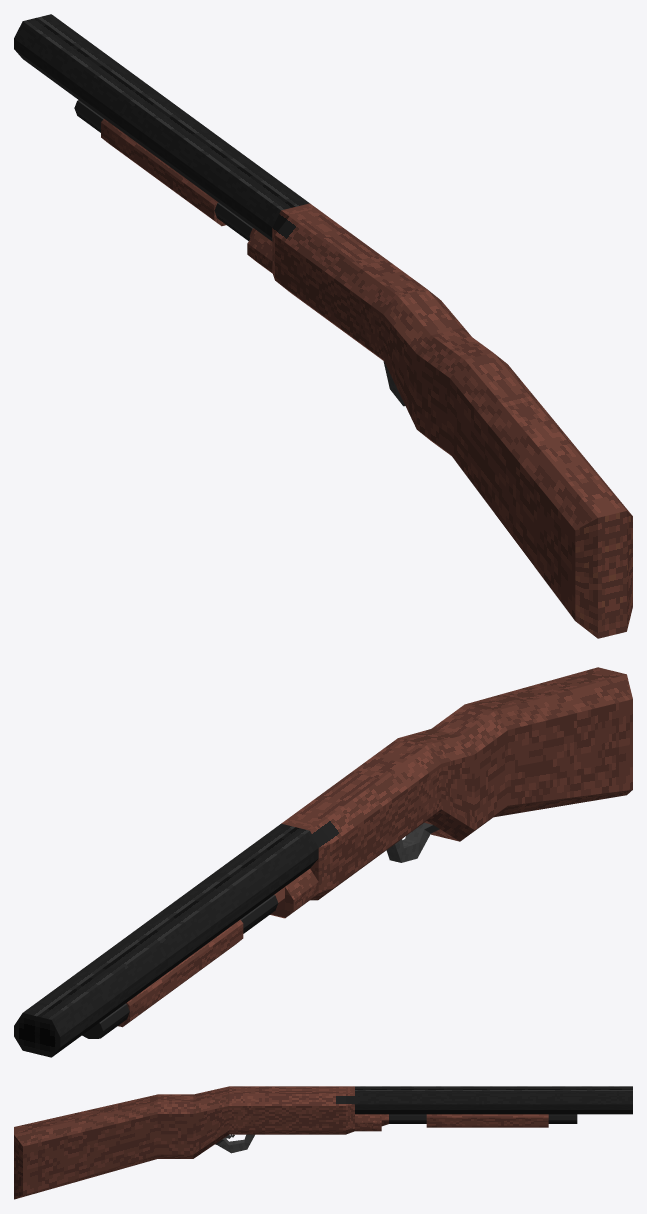
The model's file is sHOTGUN.gltf.
3 views of the same model, one above another, from view 1: azimuth 30°, elevation 25°; view 2: azimuth 150°, elevation 25°; view 3: azimuth 270°, elevation 25° (orthographic). The views are drawn at different scales.
Parts seen in each view (by area): view 1: cuboid, Pump; view 2: cuboid, Pump; view 3: cuboid, Pump.
Boxes of the visible parts, box(x1,y1,x2,y2) form: cuboid: box(14, 14, 632, 638); Pump: box(101, 119, 225, 226); cuboid: box(14, 667, 632, 1057); Pump: box(118, 919, 243, 1027); cuboid: box(14, 1086, 632, 1199); Pump: box(426, 1114, 548, 1127).
Bounding box in the file's own units: 0.0625 × 0.2031 × 1.08.
